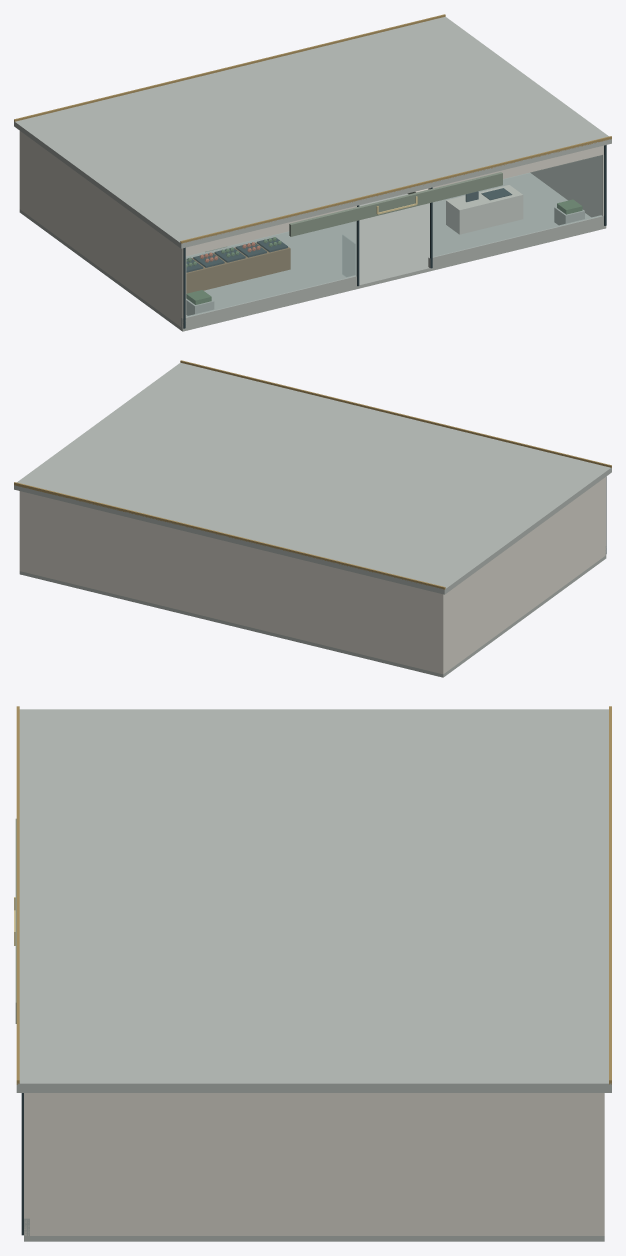
The model's file is supermarket.glb.
3 views of the same model, one above another, from view 1: azimuth 30°, elevation 25°; view 2: azimuth 150°, elevation 25°; view 3: azimuth 270°, elevation 25° (orthographic). The views are drawn at different scales.
Parts seen in each view (by area): view 1: GC-NK-SUPERMARKET-stone, GC-NK-SUPERMARKET-white, GC-NK-SUPERMARKET-glass, GC-NK-SUPERMARKET-sage, GC-NK-SUPERMARKET-gold, GC-NK-SUPERMARKET-wood, GC-NK-SUPERMARKET-dark, GC-NK-SUPERMARKET-leaf; view 2: GC-NK-SUPERMARKET-stone, GC-NK-SUPERMARKET-white, GC-NK-SUPERMARKET-gold; view 3: GC-NK-SUPERMARKET-stone, GC-NK-SUPERMARKET-white, GC-NK-SUPERMARKET-gold.
Part boxes in pixels (left/top/right/bottom): GC-NK-SUPERMARKET-stone: left=14, top=16, right=611, bottom=331; GC-NK-SUPERMARKET-white: left=19, top=131, right=603, bottom=326; GC-NK-SUPERMARKET-glass: left=186, top=155, right=603, bottom=317; GC-NK-SUPERMARKET-sage: left=205, top=172, right=502, bottom=251; GC-NK-SUPERMARKET-gold: left=14, top=14, right=611, bottom=243; GC-NK-SUPERMARKET-wood: left=186, top=242, right=290, bottom=293; GC-NK-SUPERMARKET-dark: left=183, top=145, right=606, bottom=328; GC-NK-SUPERMARKET-leaf: left=186, top=199, right=582, bottom=304; GC-NK-SUPERMARKET-stone: left=14, top=362, right=611, bottom=677; GC-NK-SUPERMARKET-white: left=19, top=477, right=606, bottom=674; GC-NK-SUPERMARKET-gold: left=14, top=360, right=611, bottom=589; GC-NK-SUPERMARKET-stone: left=16, top=709, right=611, bottom=1241; GC-NK-SUPERMARKET-white: left=24, top=1093, right=604, bottom=1235; GC-NK-SUPERMARKET-gold: left=16, top=706, right=611, bottom=1084.
Bounding box in the file's own units: 24.4 × 5 × 16.48.
